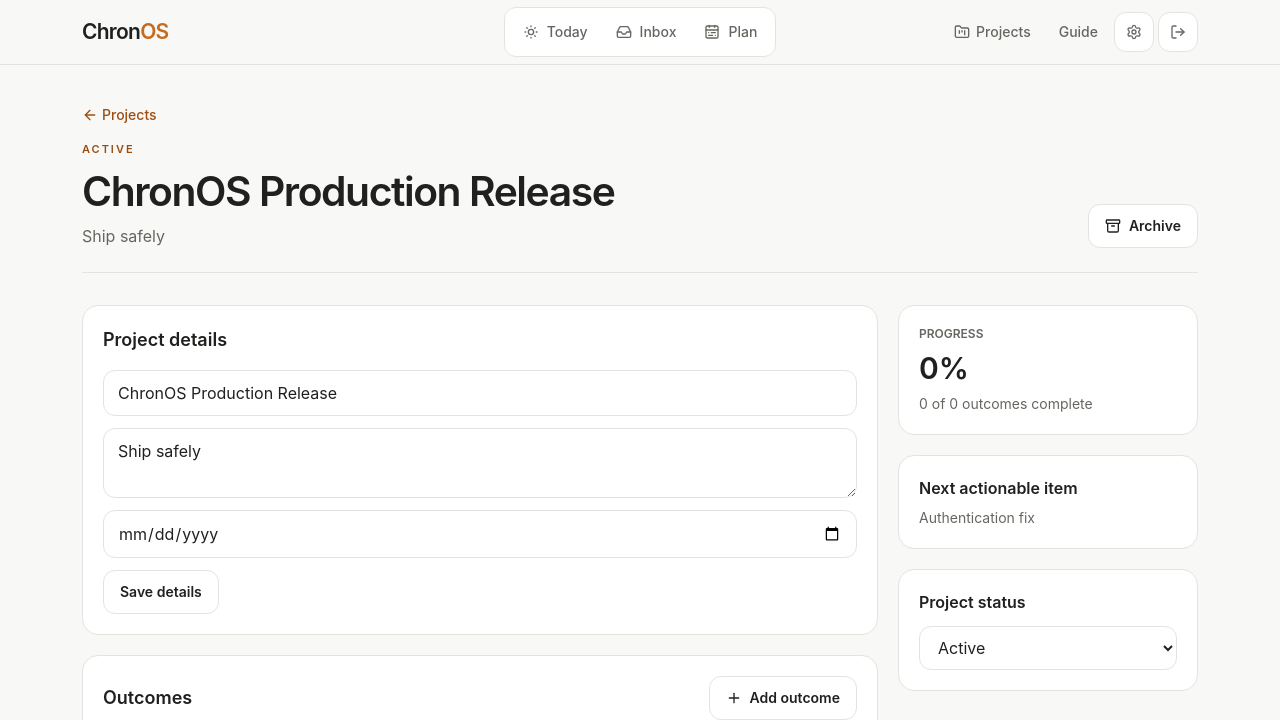
Test case: renders project detail and creates a distinct outcome
The image size is (1280, 720).
Expected: the heading "ChronOS Production Release" is shown, [82,166,614,216]
Click the button "Add outcome".
click(783, 698)  # box [708,676,857,719]
(page scrolled)
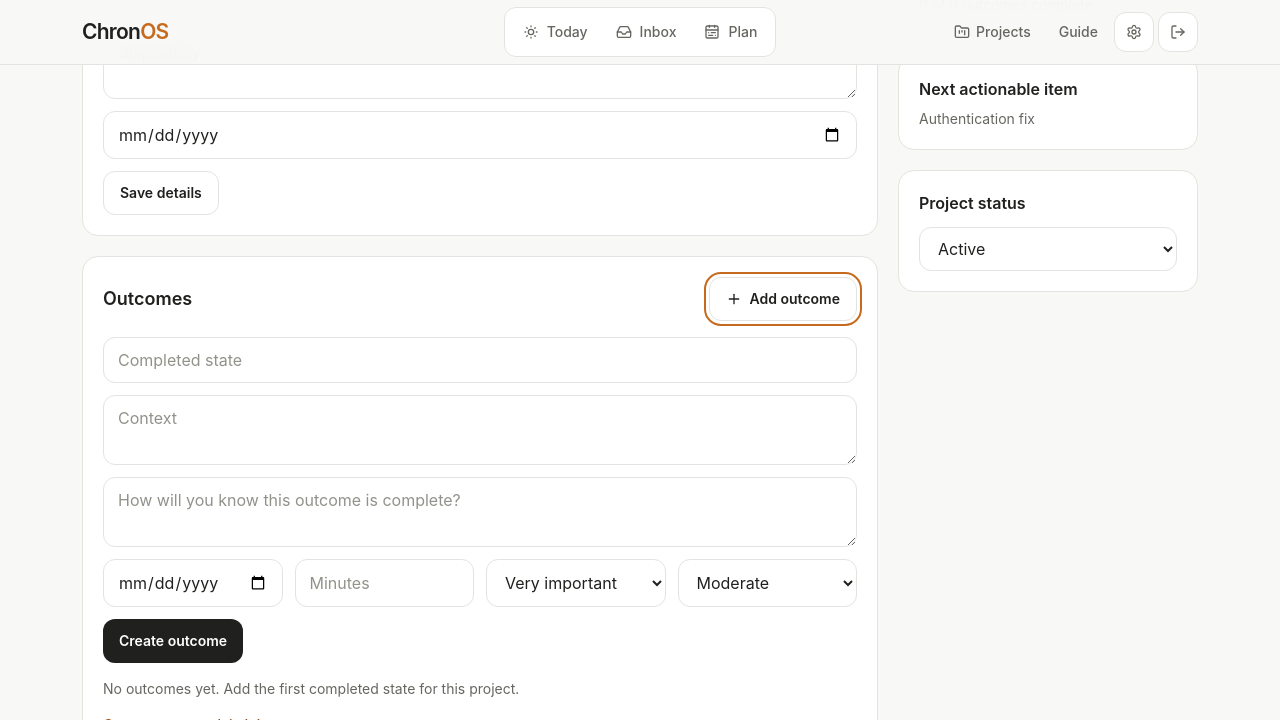
Type "Production deployment" into the field named "Outcome title".
click(480, 360); type("Production deployment")  # box [103,338,857,384]
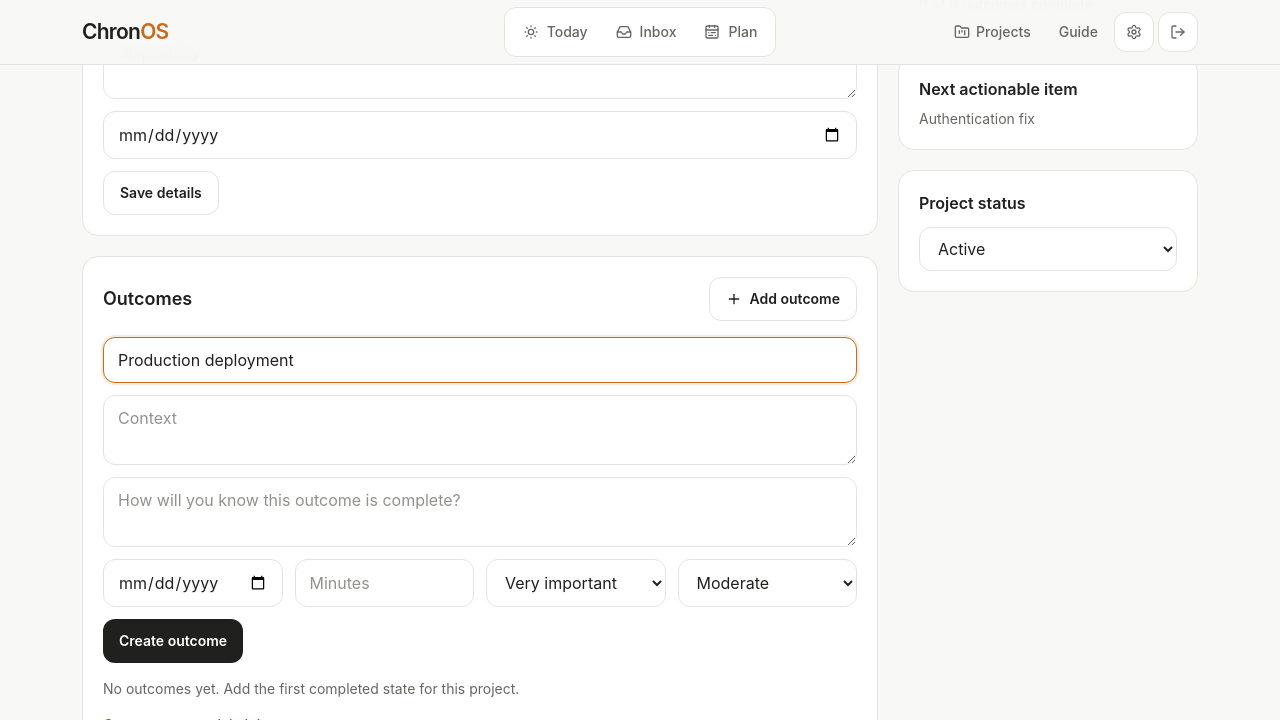
Type "Service is healthy" into the text box named "Completion criteria".
click(480, 512); type("Service is healthy")  # box [103,478,857,548]
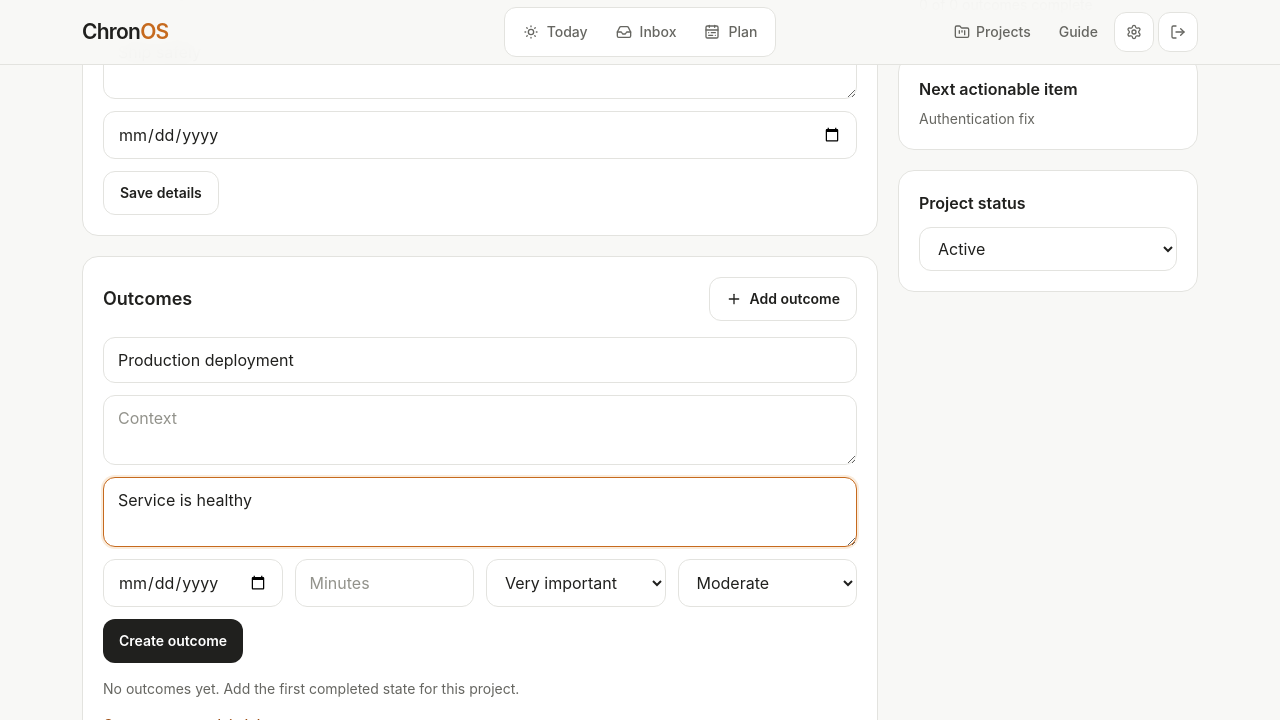
Click the button "Create outcome".
click(173, 642)  # box [103,620,243,664]
(page scrolled)
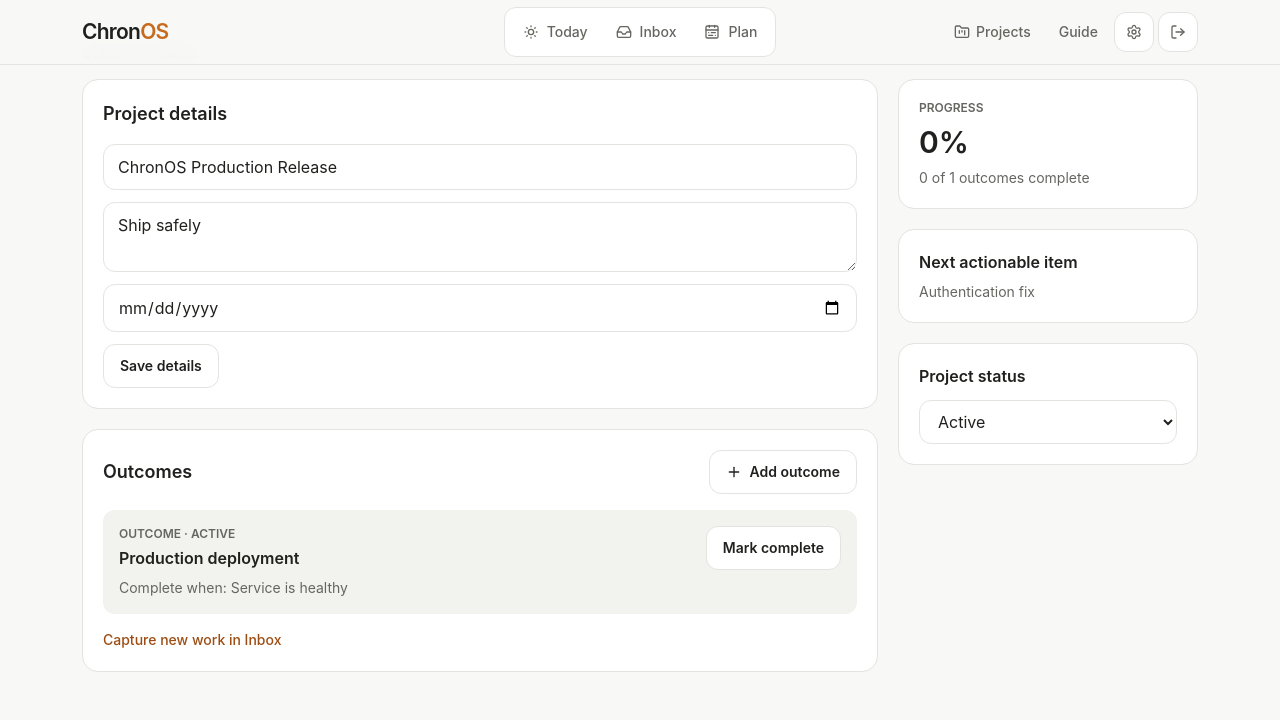
Expected: the text "Complete when: Service is healthy" is shown, [119,578,348,598]
